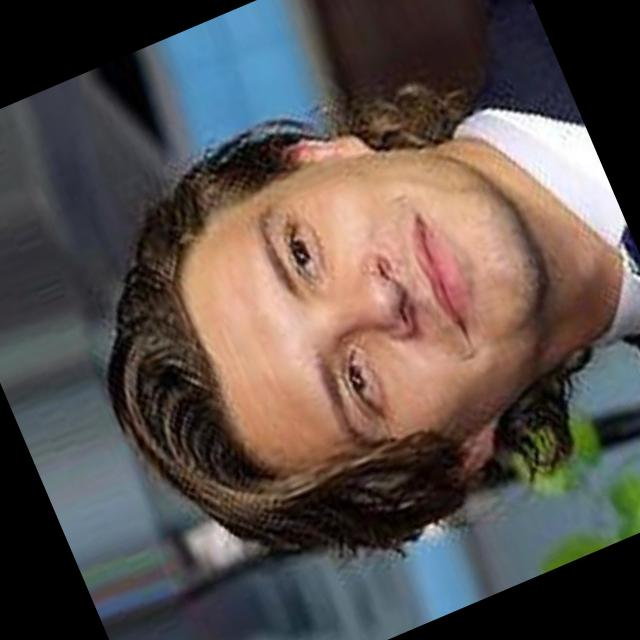bareface: (80, 81, 610, 594)
